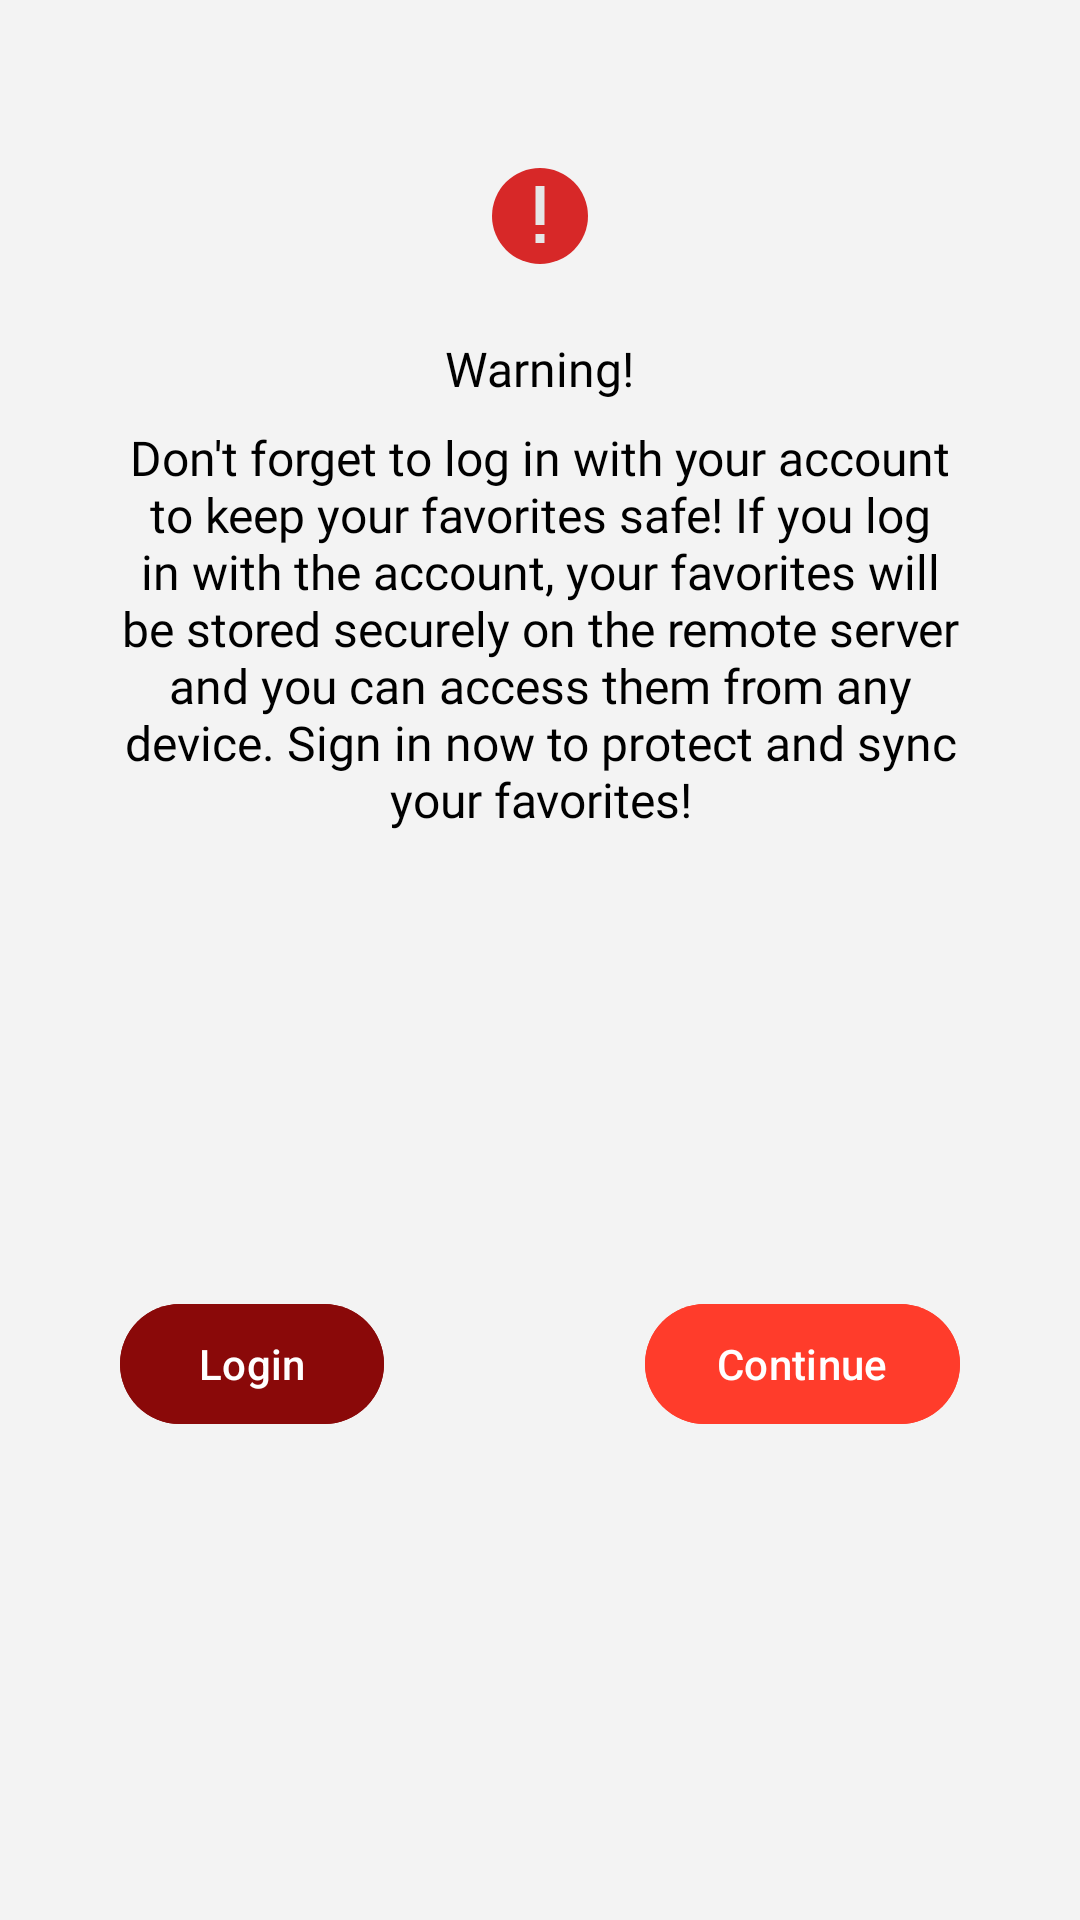

Where icons sit on this 1080w x 1920h app screen, as (x1, y1, x2, y2):
error: (492, 168, 588, 264)
